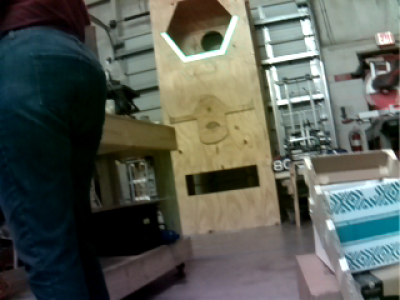target: (159, 16, 238, 63)
